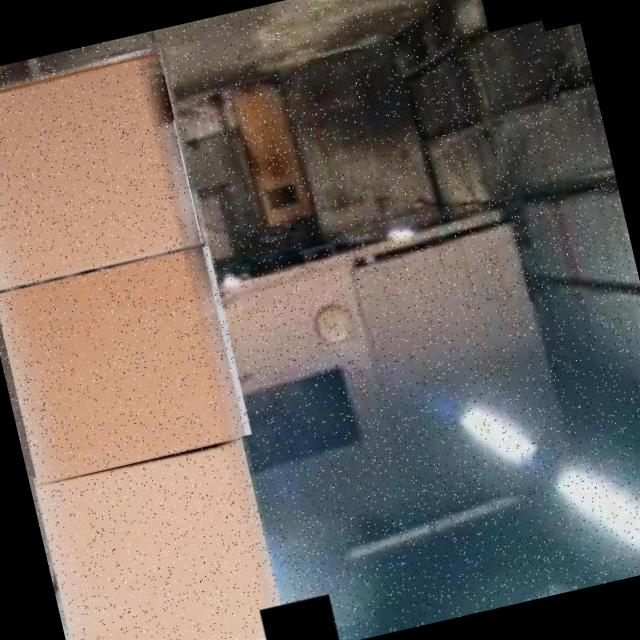box: (0, 240, 255, 486), (28, 426, 291, 640), (0, 47, 205, 293)
